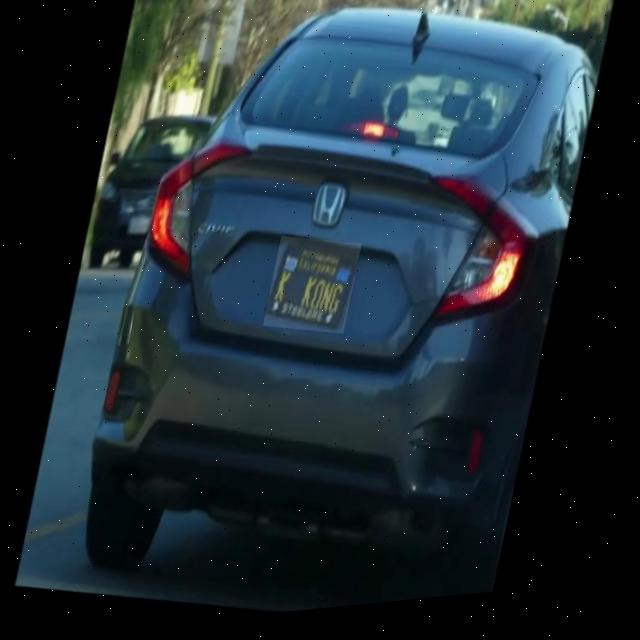LicensePlate: (264, 236, 363, 347)
